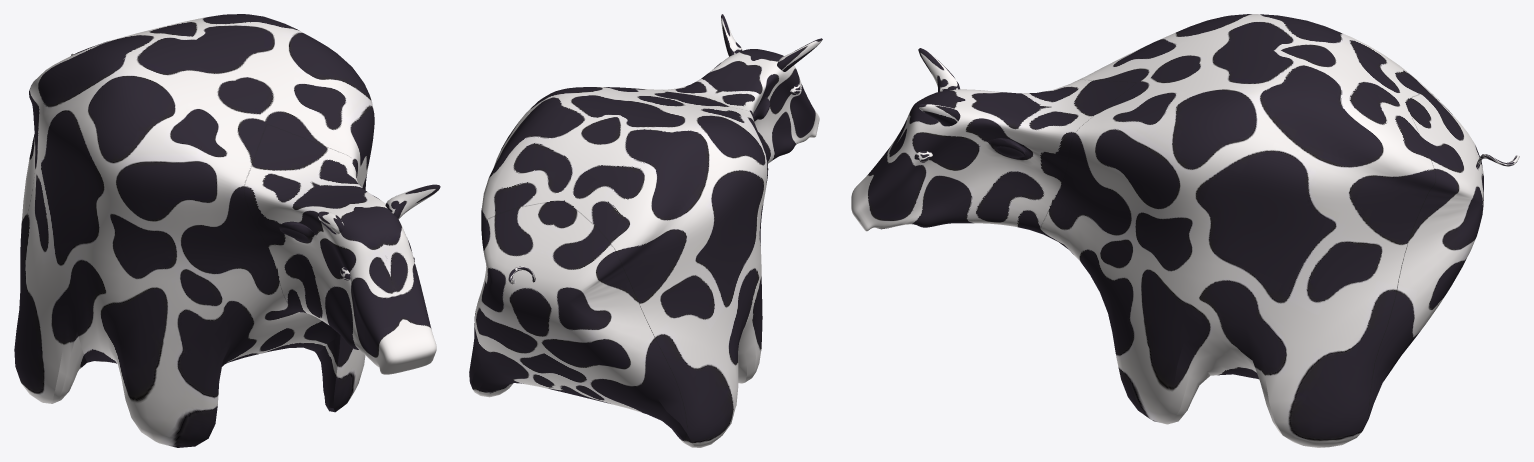
File: cow.obj
3 views of the same model, side by side, from view 1: azimuth 30°, elevation 25°; view 2: azimuth 150°, elevation 25°; view 3: azimuth 270°, elevation 25° (orthographic). The views are drawn at different scales.
Parts seen in each view (by area): view 1: Cube.001; view 2: Cube.001; view 3: Cube.001.
Part boxes in pixels (x1,y1,x2,y2): Cube.001: (14,14,440,447); Cube.001: (469,14,822,447); Cube.001: (851,14,1519,447).
Size of the model in its own units: 8.37 by 9.51 by 17.18.
1 material, 1 textured.
